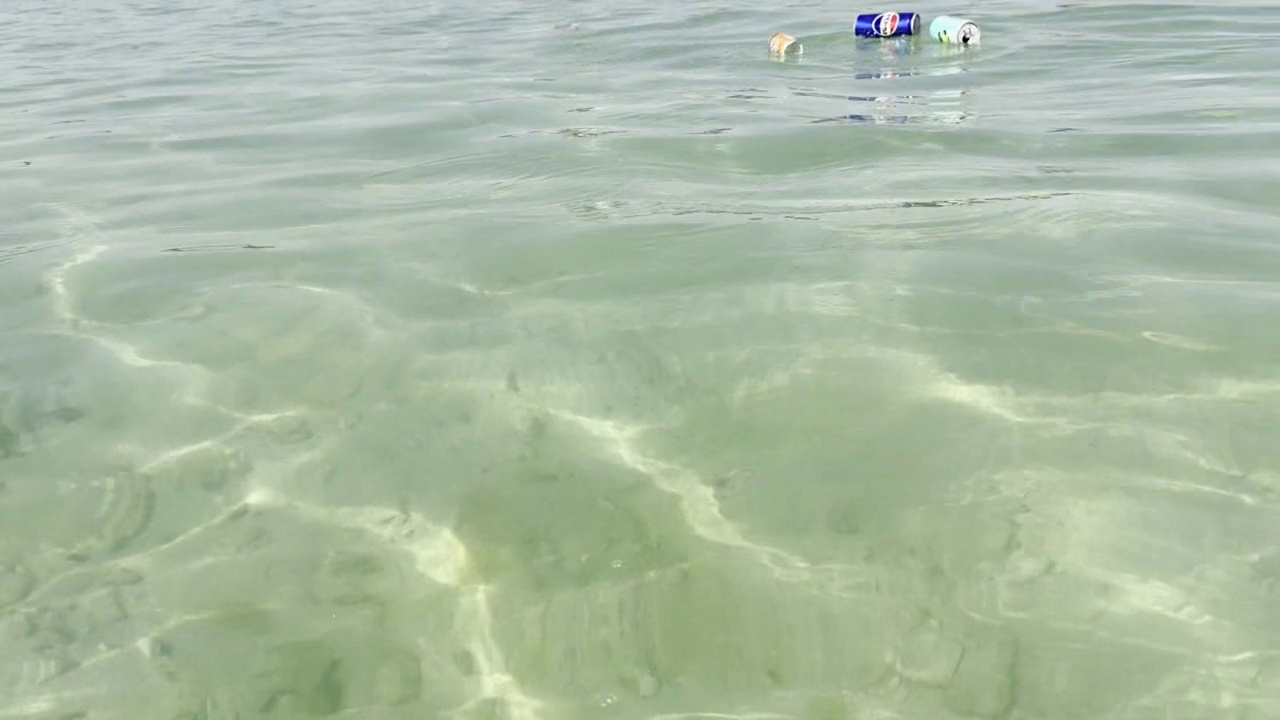debris: (850, 9, 922, 45), (921, 12, 982, 49), (765, 25, 806, 58)
